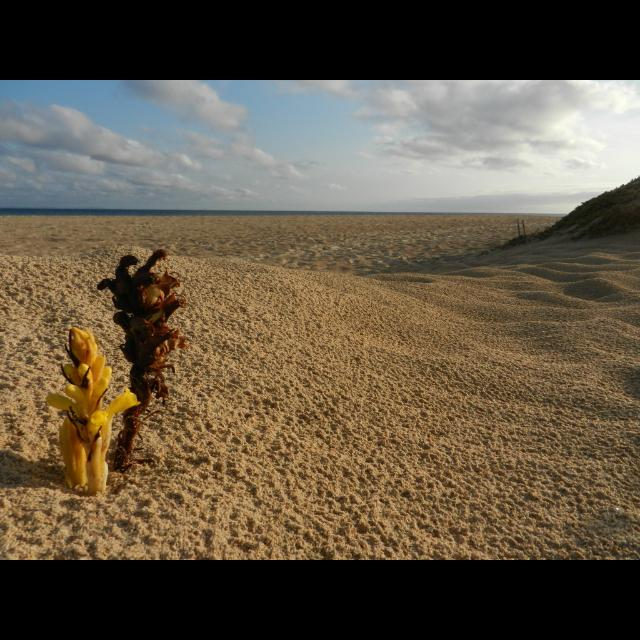Flower: (44, 326, 138, 498), (88, 408, 105, 430)
